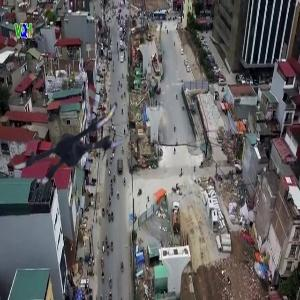drone: (10, 79, 129, 198)
